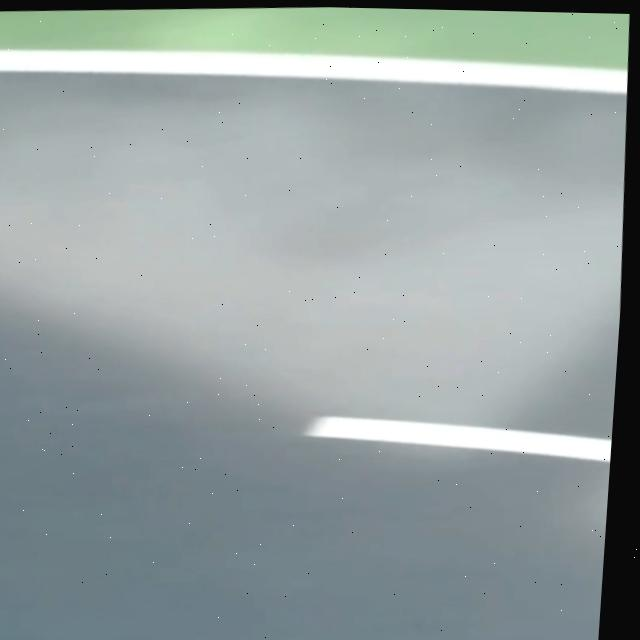center: (303, 416, 612, 463)
right: (0, 50, 627, 94)
